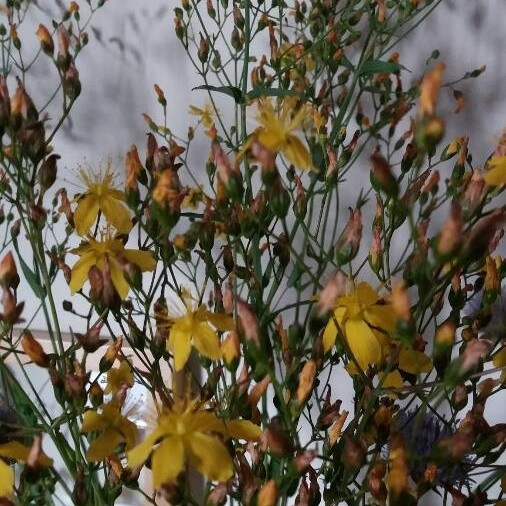obstacle: (68, 164, 439, 493)
